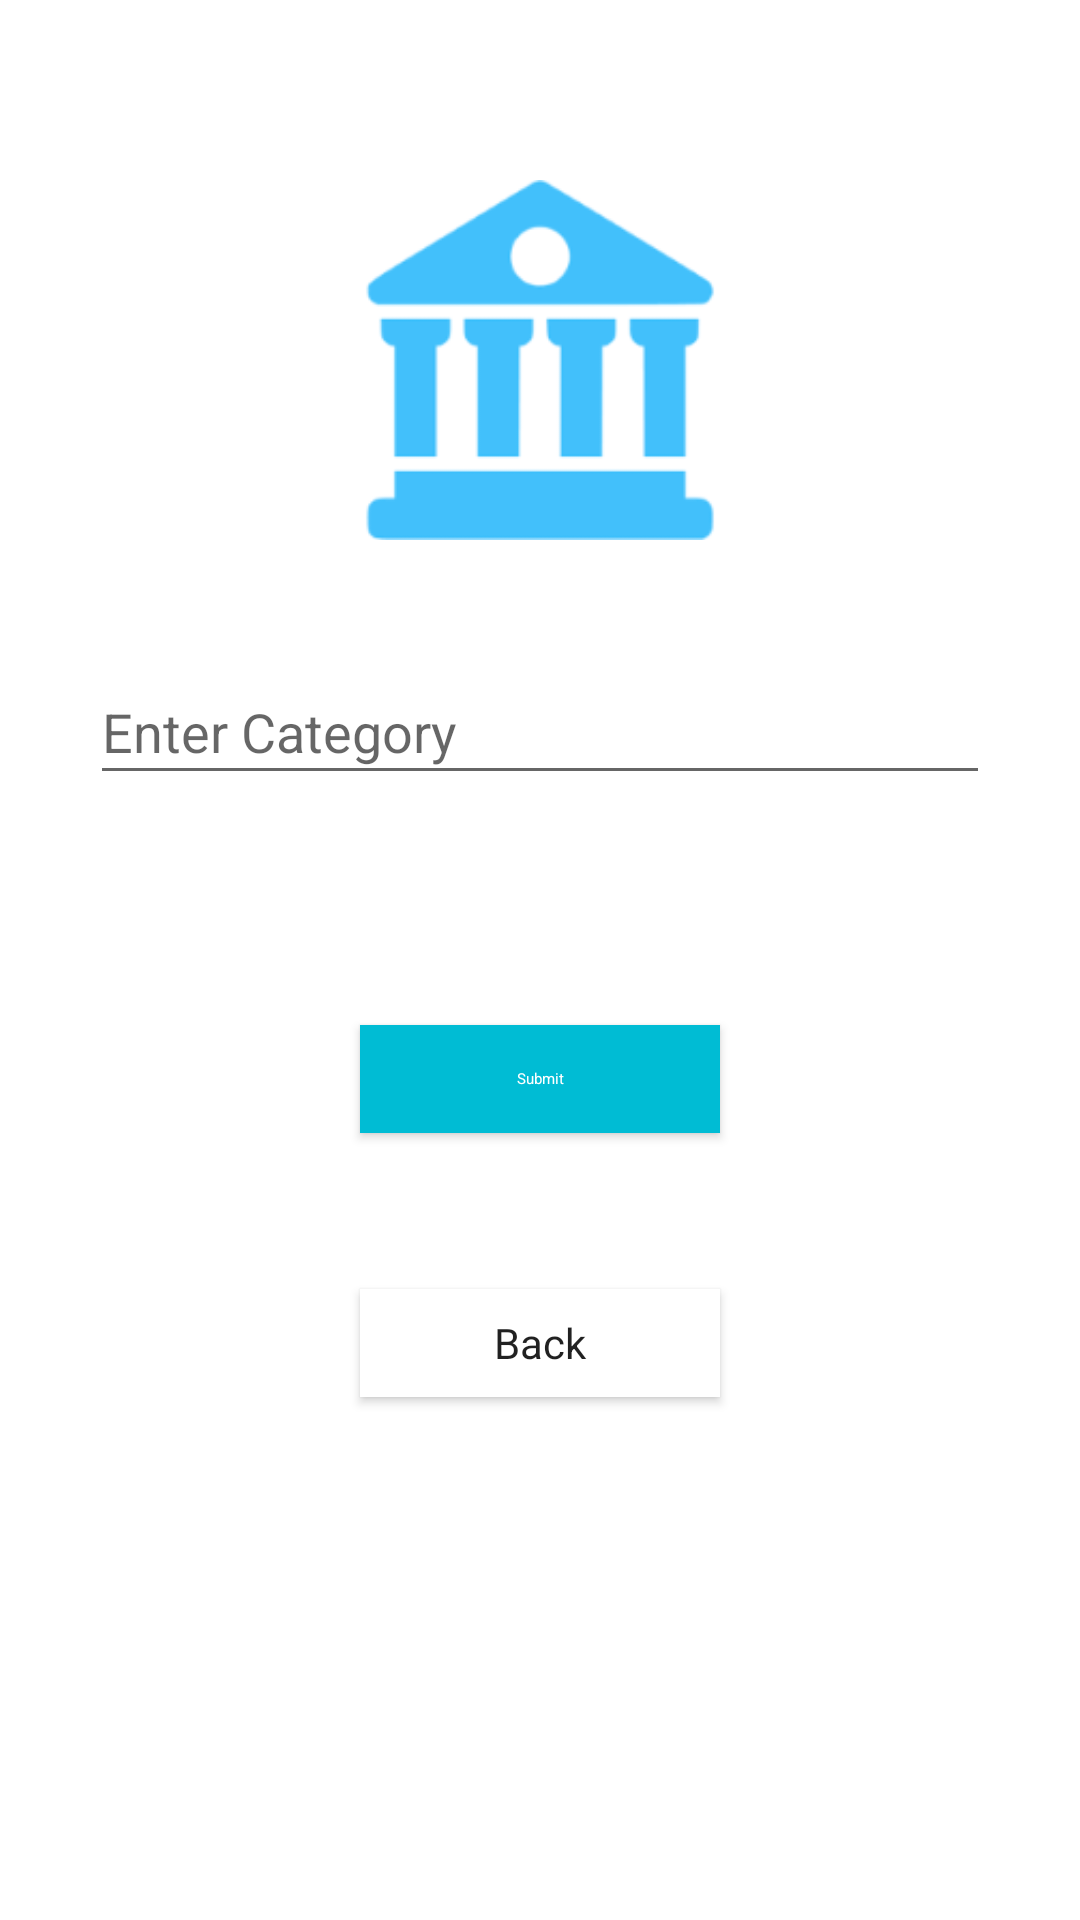

Icons on this 1080px x 1920px Android screen, each with the point to tap as point (x, y):
appicon: point (540, 360)
